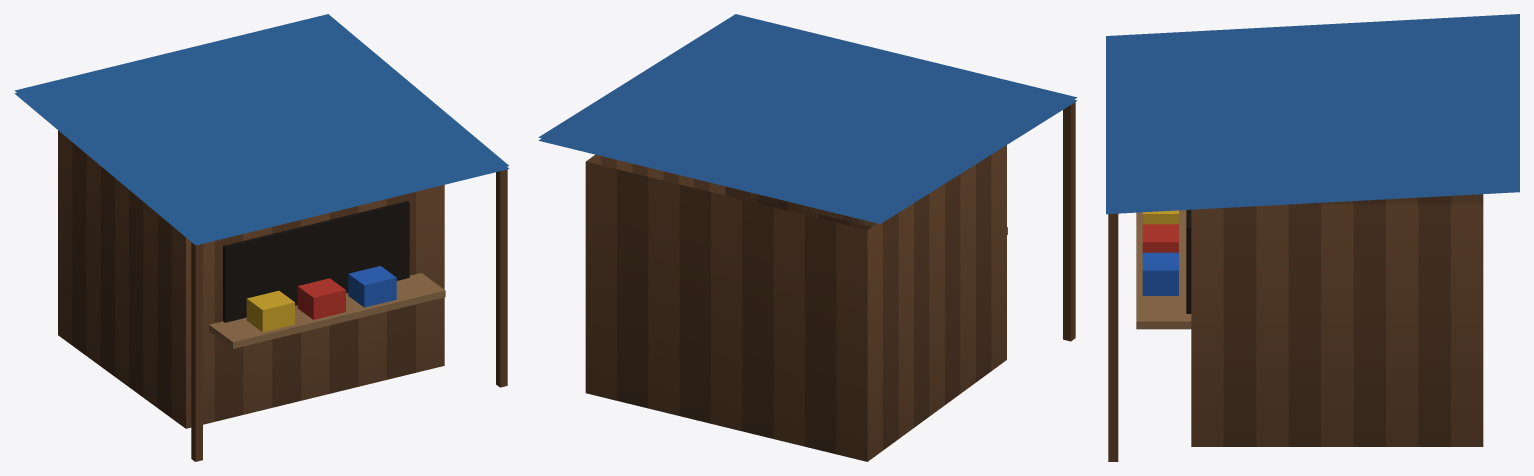
The model's file is ub_shack_wood.glb.
3 renders of one model, left to right at view 1: azimuth 30°, elevation 25°; view 2: azimuth 150°, elevation 25°; view 3: azimuth 270°, elevation 25°, orthographic. The views are drawn at different scales.
Parts seen in each view (by area): view 1: ub_shack_wood; view 2: ub_shack_wood; view 3: ub_shack_wood.
Part boxes in pixels (x1,y1,x2,y2): ub_shack_wood: [14, 14, 509, 461]; ub_shack_wood: [538, 14, 1077, 461]; ub_shack_wood: [1106, 14, 1519, 461].
Bounding box in the file's own units: 3.4 × 2.48 × 3.4.
